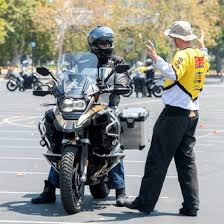helmet: (85, 20, 119, 54)
